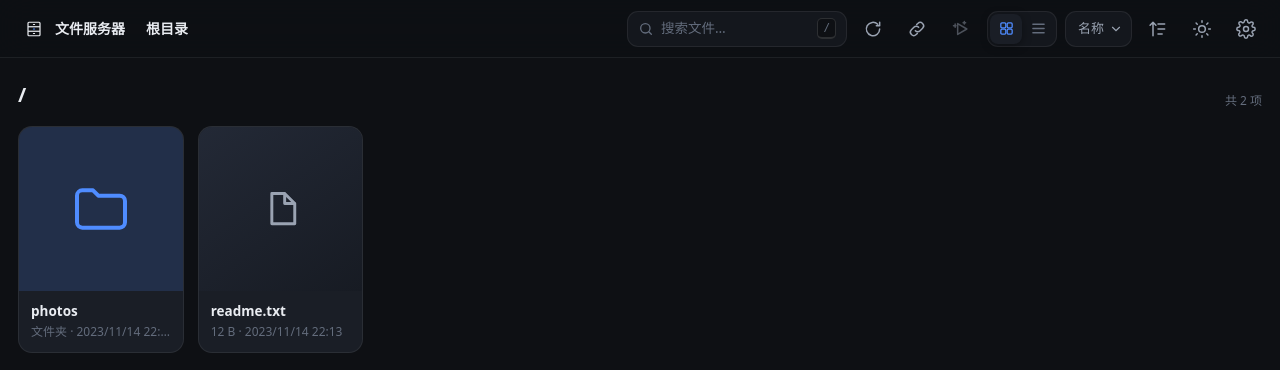
Test: BrowsePage › 网格/列表切换后保留目录条目
Expected: the element with test id "grid" is shown, left=18, top=126, right=363, bottom=353
Click the button named "列表视图": [1038, 28] box left=1022, top=14, right=1054, bottom=44
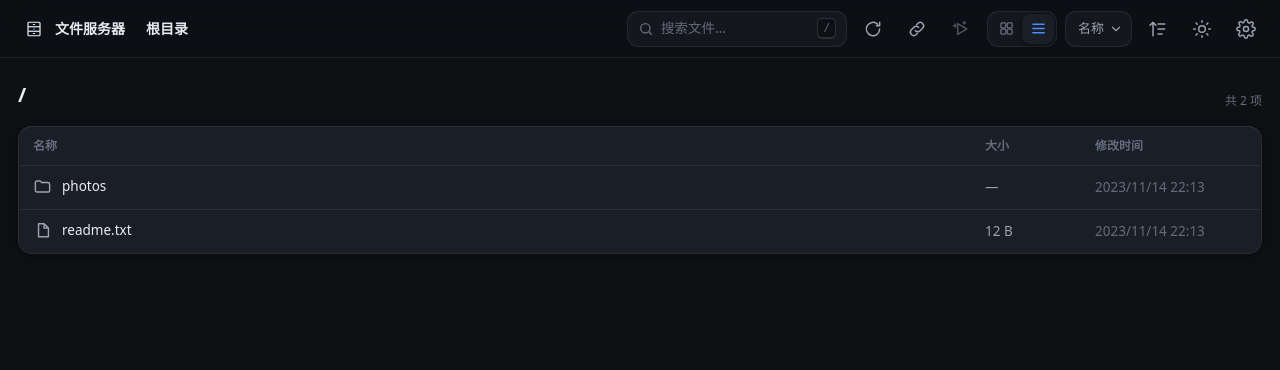
Expected: the text "readme.txt" is shown, left=62, top=220, right=132, bottom=240
Expected: the element with test id "list" is shown, left=18, top=126, right=1262, bottom=254
Click the button named "网格视图": [1006, 28] box left=990, top=14, right=1022, bottom=44
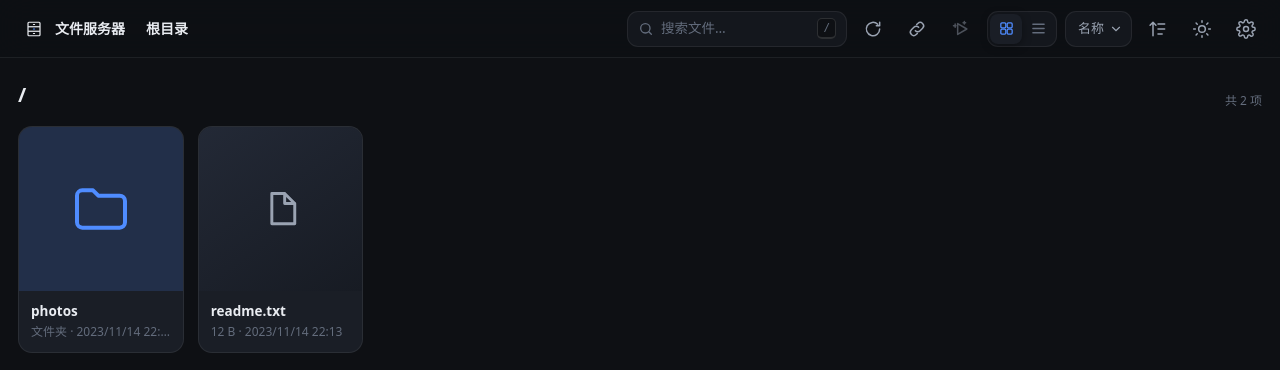
Expected: the element with test id "grid" is shown, left=18, top=126, right=363, bottom=353
